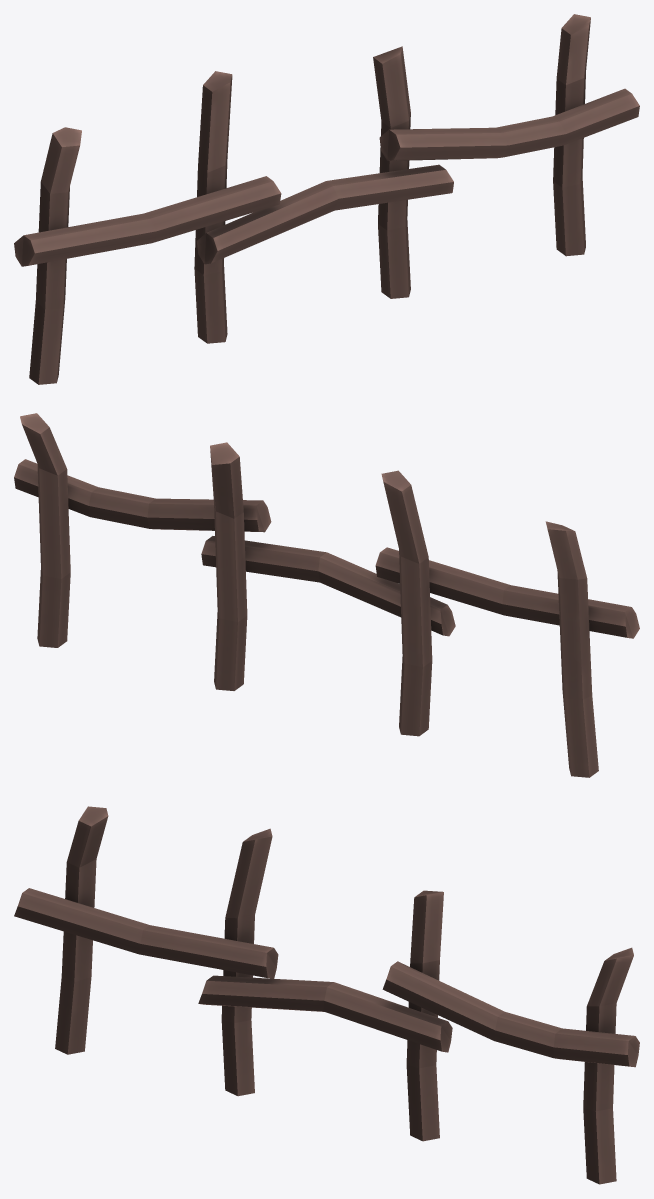
The model's file is Fence_4.fbx.
The picture shows the model from 3 angles, top to bottom: view 1: azimuth 30°, elevation 25°; view 2: azimuth 150°, elevation 25°; view 3: azimuth 330°, elevation 25°; orthographic projection.
Parts seen in each view (by area): view 1: Fence_4; view 2: Fence_4; view 3: Fence_4.
Part boxes in pixels (bbox=[...]): Fence_4: bbox=[14, 14, 639, 384]; Fence_4: bbox=[14, 413, 639, 777]; Fence_4: bbox=[14, 806, 639, 1184].
Bounding box in the file's own units: 81.83 × 32.37 × 8.15.
